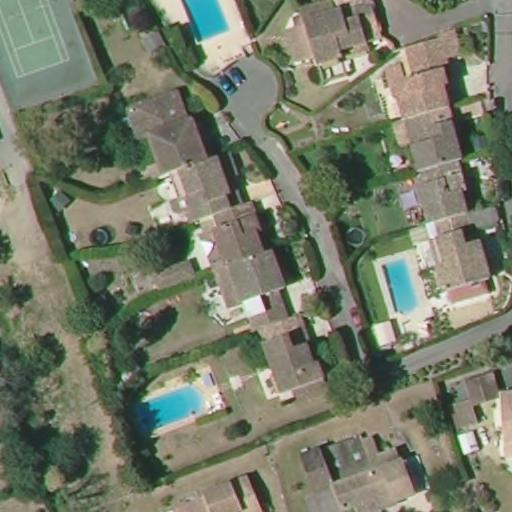pool: (133, 387, 215, 434), (176, 0, 234, 48), (379, 252, 422, 315)
